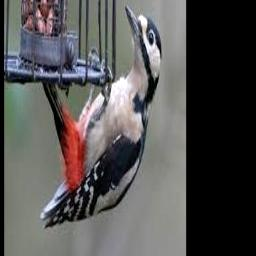Woodpecker: (41, 5, 162, 229)
